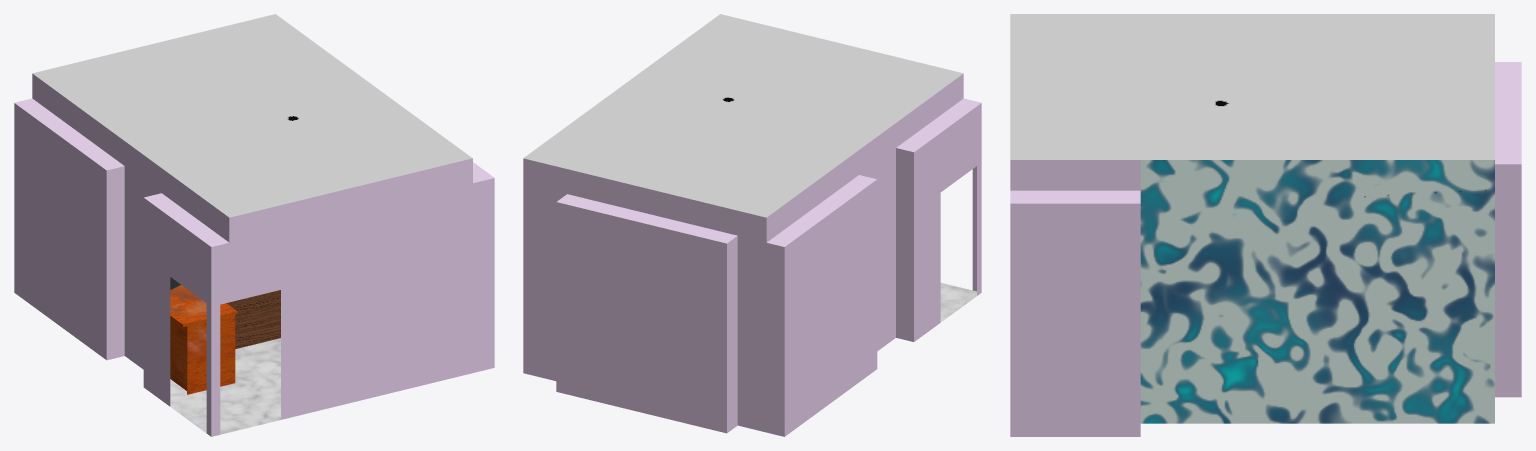
File: room002.fbx
The picture shows the model from 3 angles, left to right: view 1: azimuth 30°, elevation 25°; view 2: azimuth 150°, elevation 25°; view 3: azimuth 270°, elevation 25°; orthographic projection. The views are drawn at different scales.
Parts seen in each view (by area): view 1: room, table, bed; view 2: room; view 3: room.
Boxes of the visible parts, bbox=[...] form: room: bbox=[14, 14, 494, 436]; table: bbox=[170, 285, 237, 394]; bed: bbox=[226, 290, 280, 348]; room: bbox=[523, 14, 981, 436]; room: bbox=[1010, 14, 1521, 436].
Size of the model in its own units: 425 by 308 by 541.
